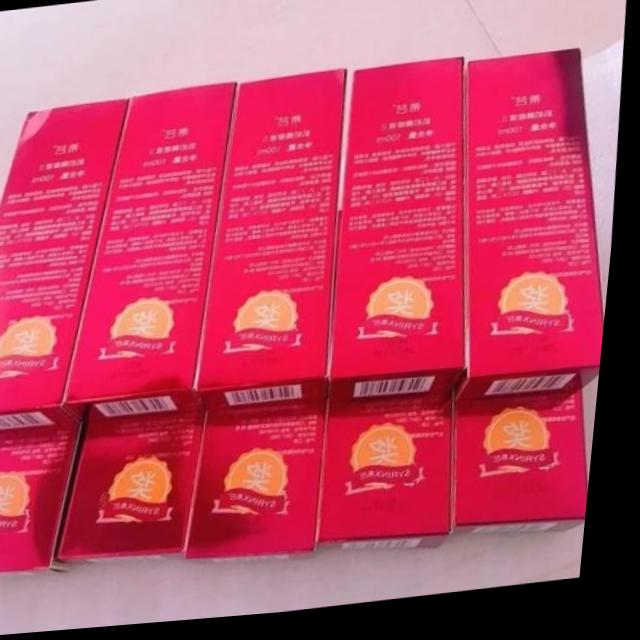box: (71, 87, 241, 430), (461, 57, 612, 411), (203, 76, 347, 420), (336, 64, 473, 411), (0, 98, 131, 444), (196, 411, 337, 570), (68, 420, 213, 567), (325, 408, 464, 560), (460, 398, 599, 546), (0, 432, 91, 575)
